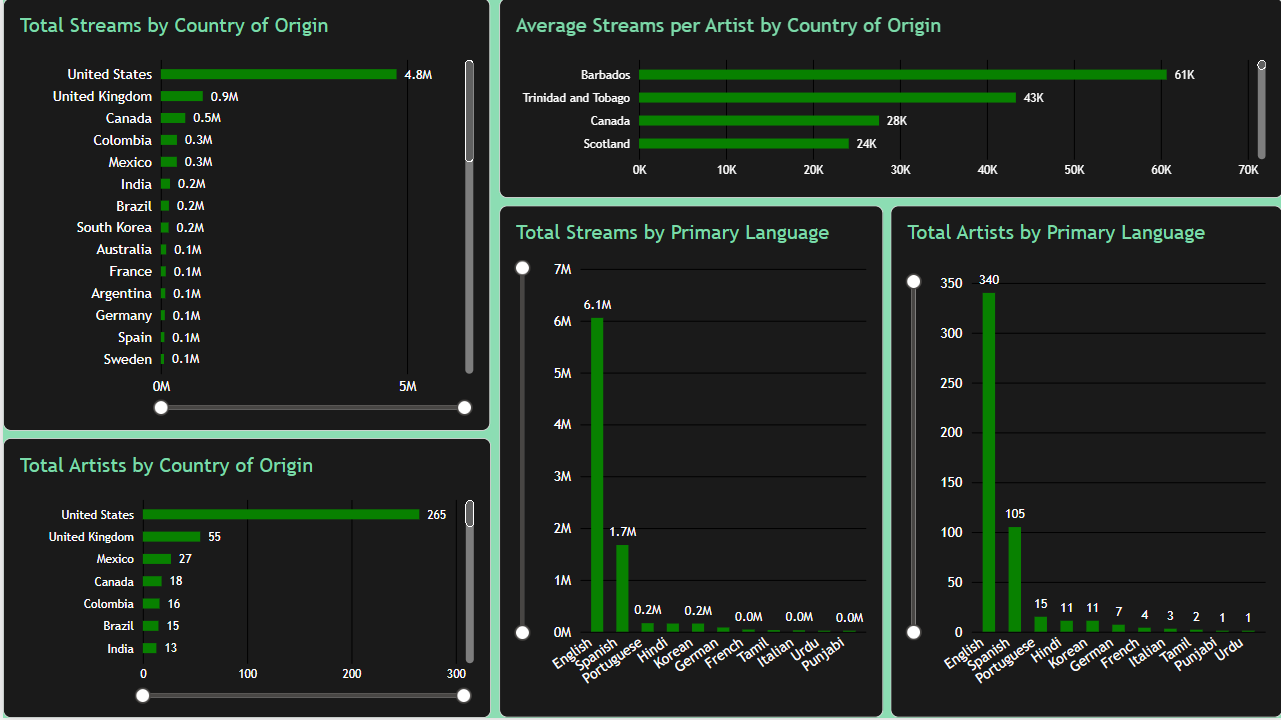

Layout of this report page (visuals, bound fields, positions):
{"tool":"powerbi","page":{"name":"Geography & Language","canvas":[1280,720],"ordinal":3},"visuals":[{"type":"barChart","fields":{"Category":["DimArtist.Country of Origin"],"Y":["FactStreamedSpotify.Total Streams"]},"box":[0,56,488,376],"z":0},{"type":"barChart","fields":{"Category":["DimArtist.Country of Origin"],"Y":["FactStreamedSpotify.Total Artists"]},"box":[0,440,488,280],"z":1000},{"type":"barChart","fields":{"Category":["DimArtist.Country of Origin"],"Y":["FactStreamedSpotify.Average Streams per Artist"]},"box":[496,56,784,144],"z":2000},{"type":"columnChart","fields":{"Category":["DimArtist.Primary Language"],"Y":["FactStreamedSpotify.Total Streams"]},"box":[496,208,384,512],"z":3000},{"type":"columnChart","fields":{"Category":["DimArtist.Primary Language"],"Y":["FactStreamedSpotify.Total Artists"]},"box":[888,208,392,512],"z":4000}]}

Visuals, with their boxes in screenshot pixels (x1, y1, x2, y2), scaled from the page's 1280x720 canvas onto the 1281x720 screenshot:
barChart - DimArtist.Country of Origin x FactStreamedSpotify.Total Streams: [0,56,488,432]
barChart - DimArtist.Country of Origin x FactStreamedSpotify.Total Artists: [0,440,488,719]
barChart - DimArtist.Country of Origin x FactStreamedSpotify.Average Streams per Artist: [496,56,1280,200]
columnChart - DimArtist.Primary Language x FactStreamedSpotify.Total Streams: [496,208,881,719]
columnChart - DimArtist.Primary Language x FactStreamedSpotify.Total Artists: [889,208,1280,719]
